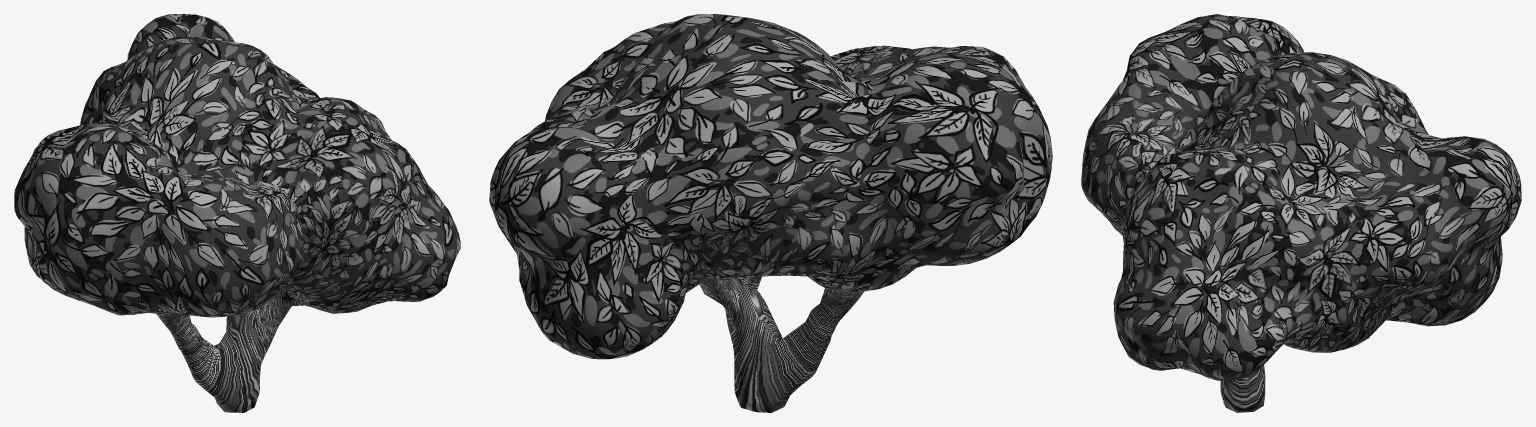
File: FBX_Bush.fbx
3 views of the same model, side by side, from view 1: azimuth 30°, elevation 25°; view 2: azimuth 150°, elevation 25°; view 3: azimuth 270°, elevation 25° (orthographic). The views are drawn at different scales.
Parts seen in each view (by area): view 1: FBX_bush, FBX_bush.001; view 2: FBX_bush, FBX_bush.001; view 3: FBX_bush, FBX_bush.001.
Boxes of the visible parts, box(x1,y1,x2,y2) form: FBX_bush: box(14, 14, 460, 317); FBX_bush.001: box(156, 287, 306, 412); FBX_bush: box(489, 14, 1052, 359); FBX_bush.001: box(699, 276, 863, 412); FBX_bush: box(1081, 14, 1521, 380); FBX_bush.001: box(1220, 365, 1265, 412).
Size of the model in its own units: 181 by 145 by 169.
